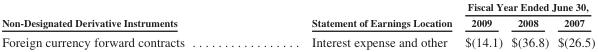table: (1, 0, 594, 49)
table column: (1, 0, 247, 49), (247, 0, 457, 49), (457, 0, 506, 49), (506, 0, 552, 49), (552, 0, 594, 49)
table column header: (1, 0, 594, 31)
table row: (1, 31, 594, 49), (1, 14, 594, 31), (1, 0, 594, 14)
table spanning cell: (1, 0, 247, 31), (247, 0, 457, 31), (457, 0, 594, 14)
